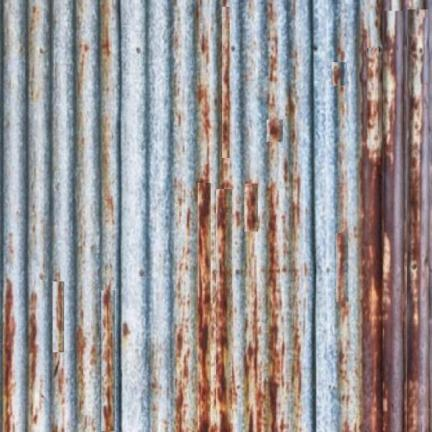karat: (383, 11, 404, 431)
